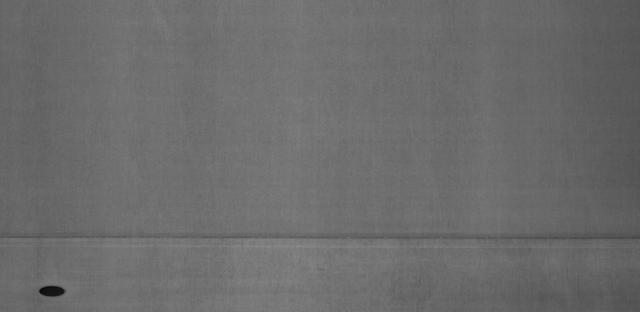punching_hole: (32, 280, 72, 299)
welding_line: (3, 228, 640, 249)
